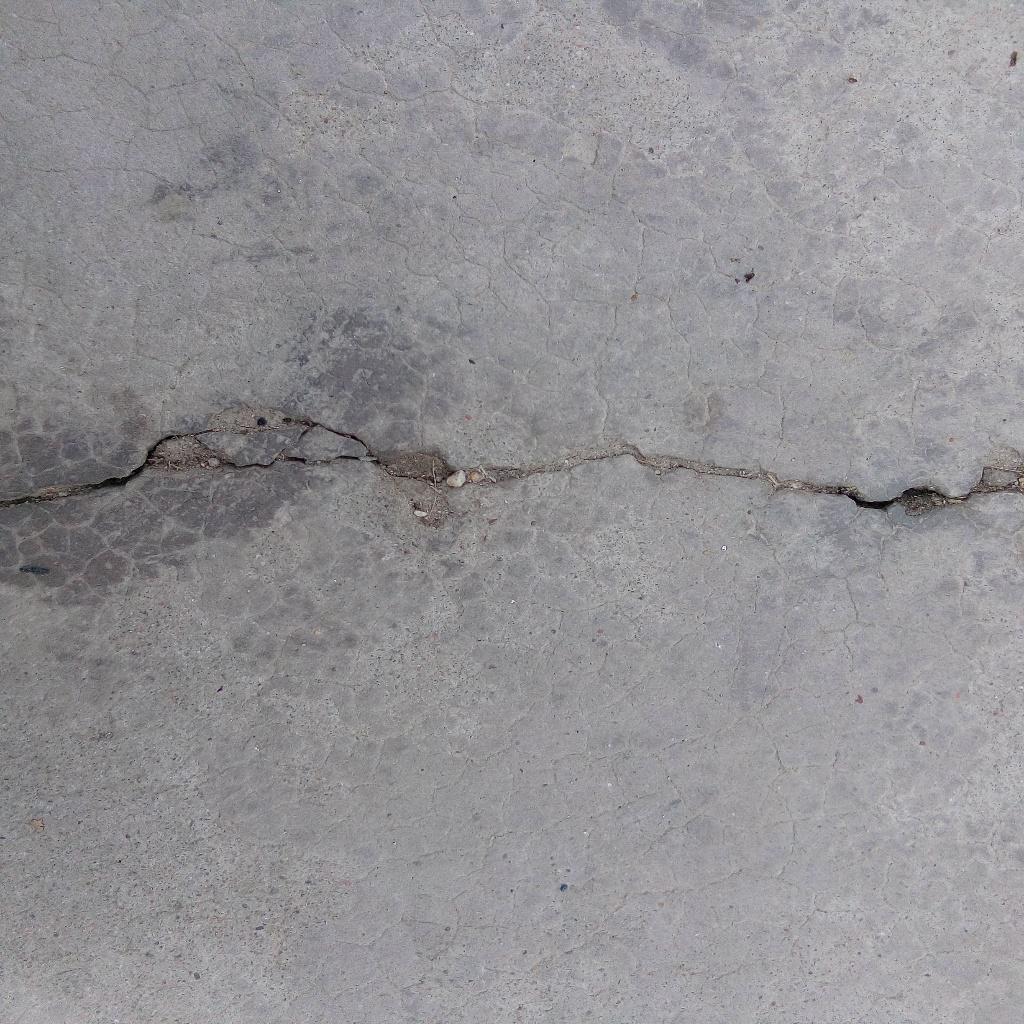Crack: (1, 413, 1024, 530)
